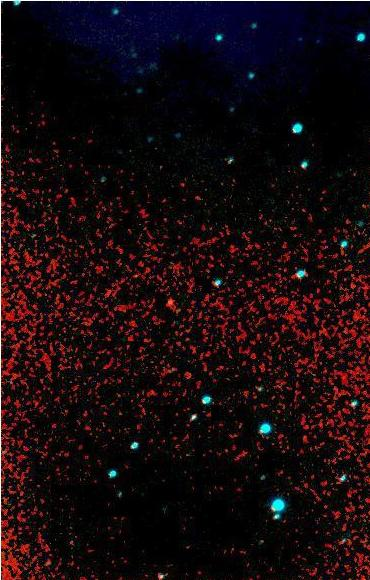star: (161, 22, 191, 52)
